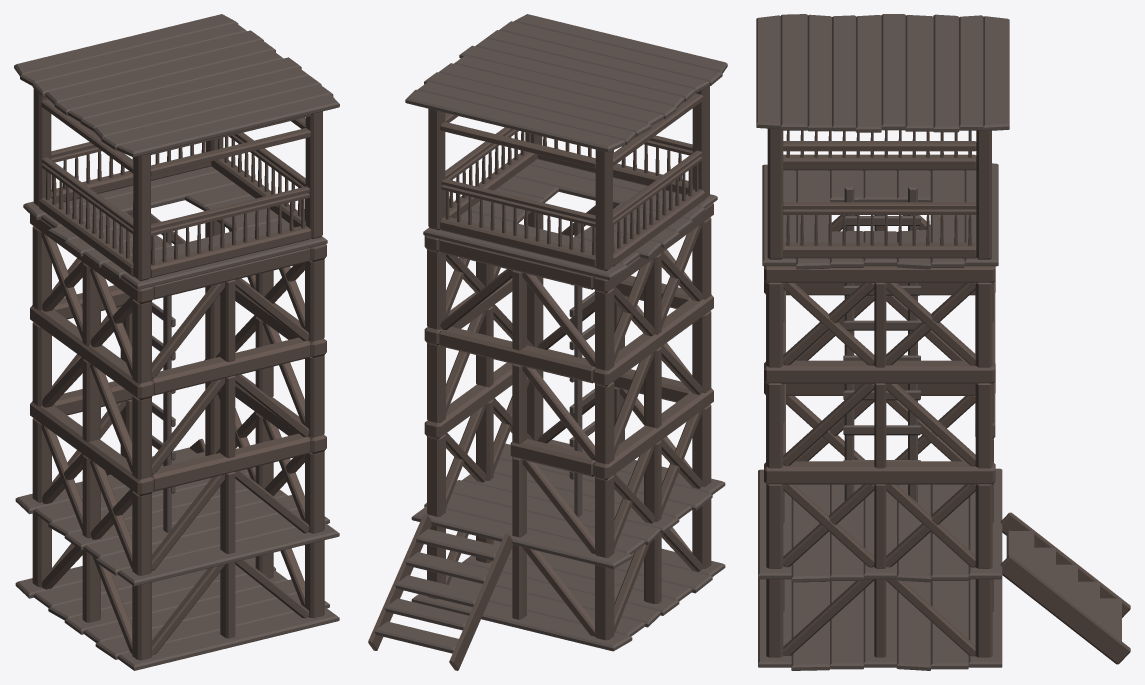
The picture shows the model from 3 angles, left to right: view 1: azimuth 30°, elevation 25°; view 2: azimuth 150°, elevation 25°; view 3: azimuth 270°, elevation 25°; orthographic projection. The views are drawn at different scales.
Parts seen in each view (by area): view 1: farmstractures_05.002; view 2: farmstractures_05.002; view 3: farmstractures_05.002.
Boxes of the visible parts, box(x1,y1,x2,y2) form: farmstractures_05.002: box(14, 14, 339, 670); farmstractures_05.002: box(368, 14, 727, 670); farmstractures_05.002: box(756, 14, 1130, 670).
Size of the model in its own units: 4.97 by 11.15 by 6.88.
1 material, 1 textured.
